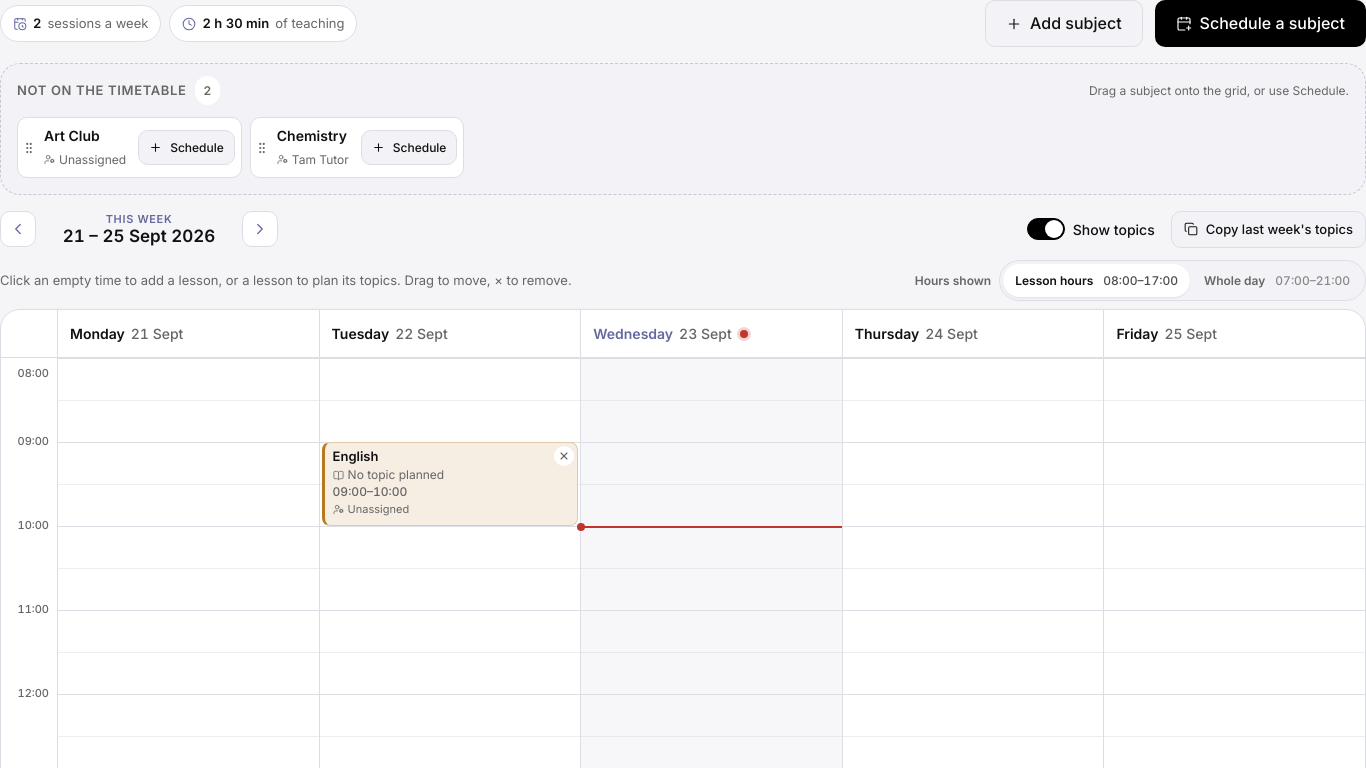
Test: TimetablePage adding sessions › Schedule in the tray opens the dialog with that subject at the first free hour of the day
Click the button with aria-label "Schedule Chemistry": click(409, 148) top-left (361, 130), bottom-right (458, 165)
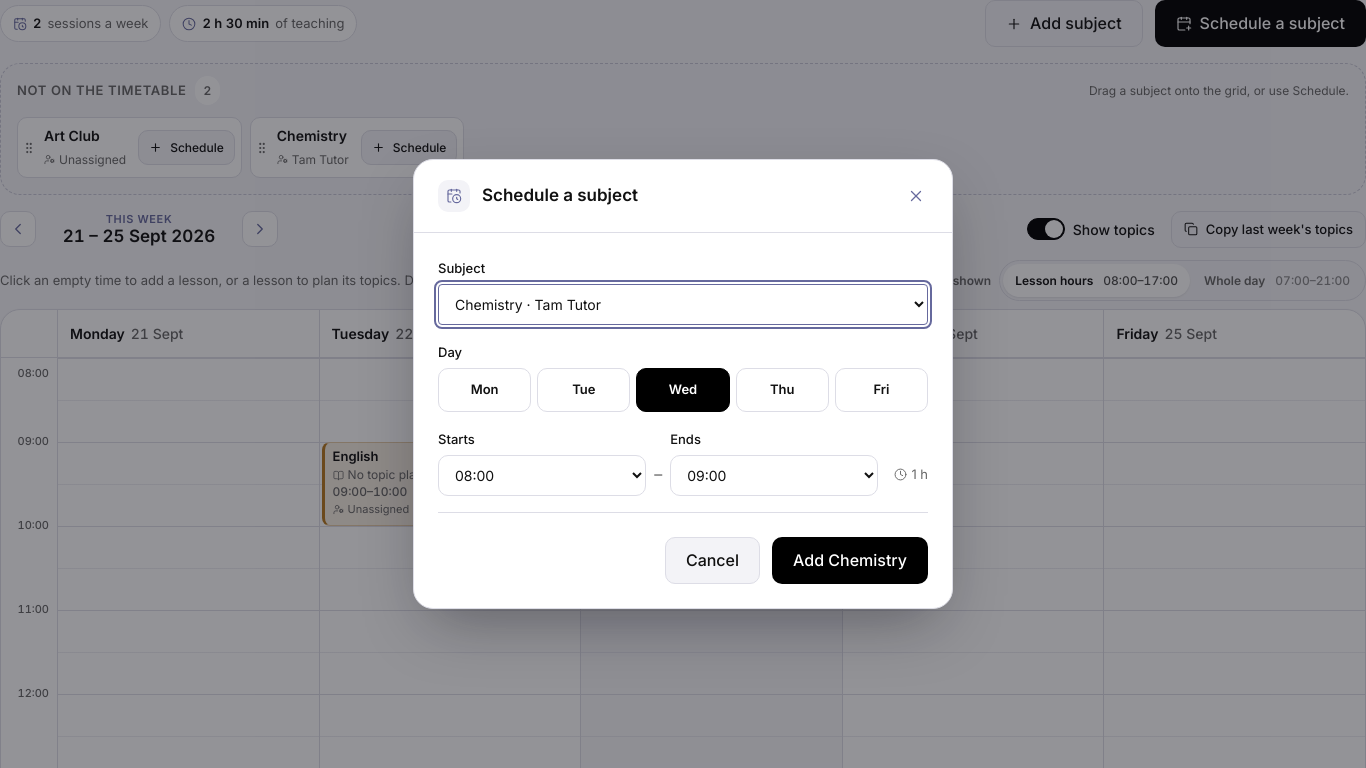
Result: the dropdown labelled "Subject" shows "Chemistry · Tam Tutor" at top-left (438, 284), bottom-right (928, 325)
Result: the radio button named "Wednesday" is checked at top-left (636, 368), bottom-right (730, 412)
Result: the dropdown labelled "Starts" shows "08:00" at top-left (438, 455), bottom-right (646, 496)
Click the button "Add Chemistry": click(850, 560) top-left (772, 537), bottom-right (928, 584)
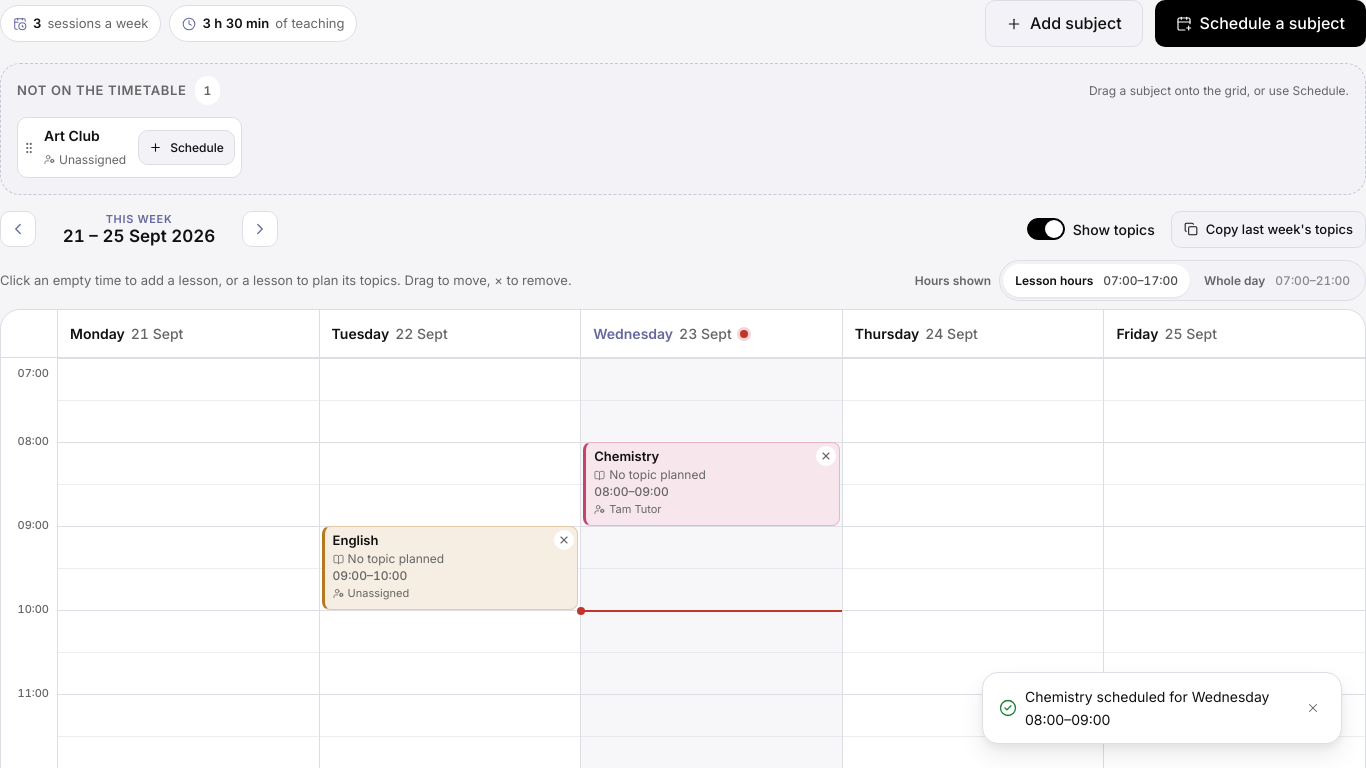
Result: the text "Chemistry scheduled for Wednesday 08:00–09:00" is shown at top-left (1025, 685), bottom-right (1293, 731)
Result: the dialog is gone
